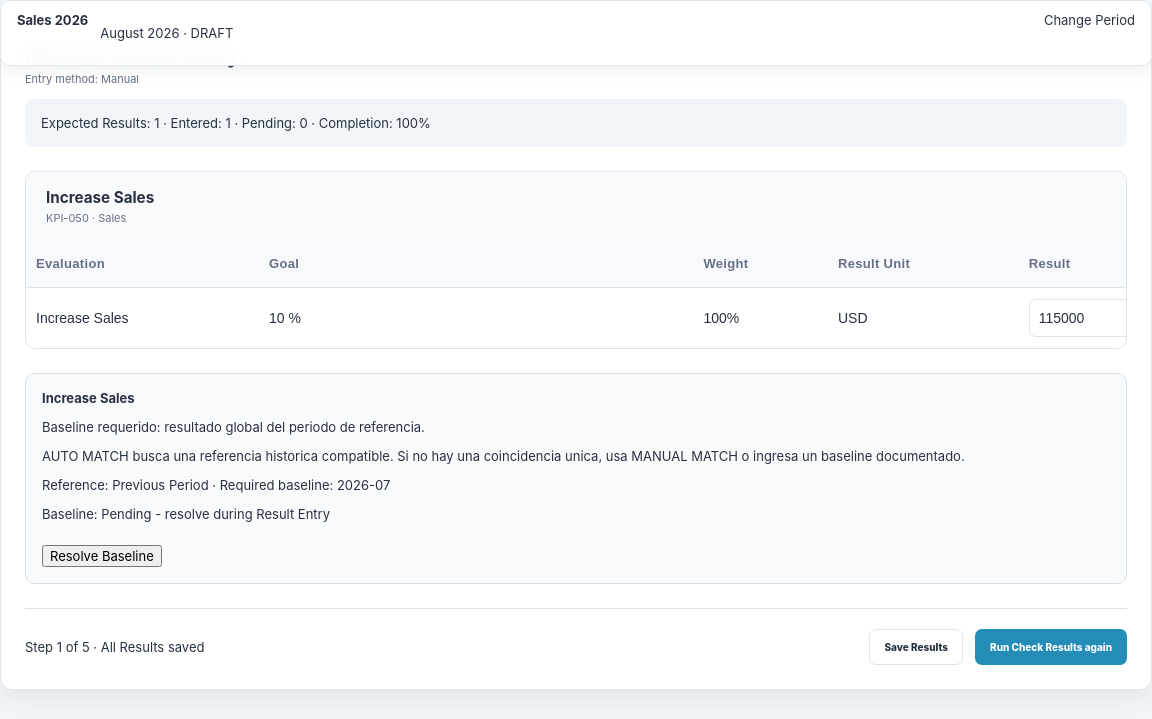
Test: Historical baseline in Monitoring wizard › requires manual provenance and sends only value/reason/version; period and unit are read-only
(page scrolled)
Click the button "Resolve Baseline".
click(102, 556)  # box [42, 544, 162, 566]
(page scrolled)
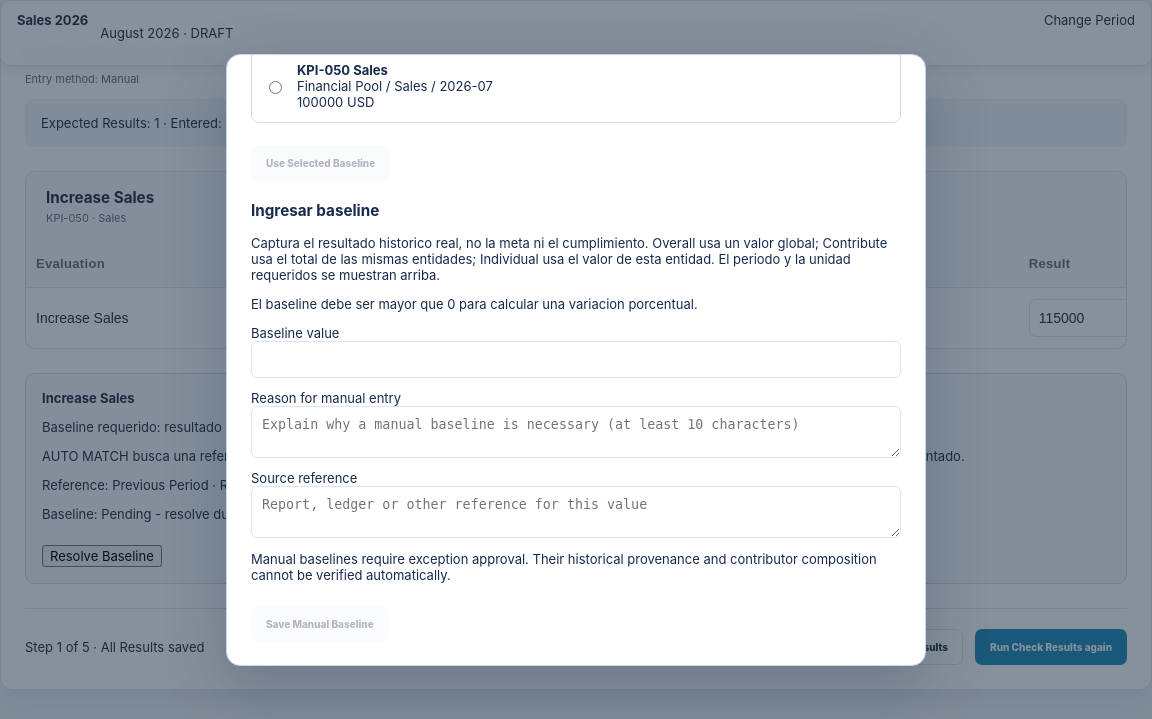
Type "100000" into the field labelled "Baseline value".
click(576, 360); type("100000")  # box [251, 341, 901, 378]
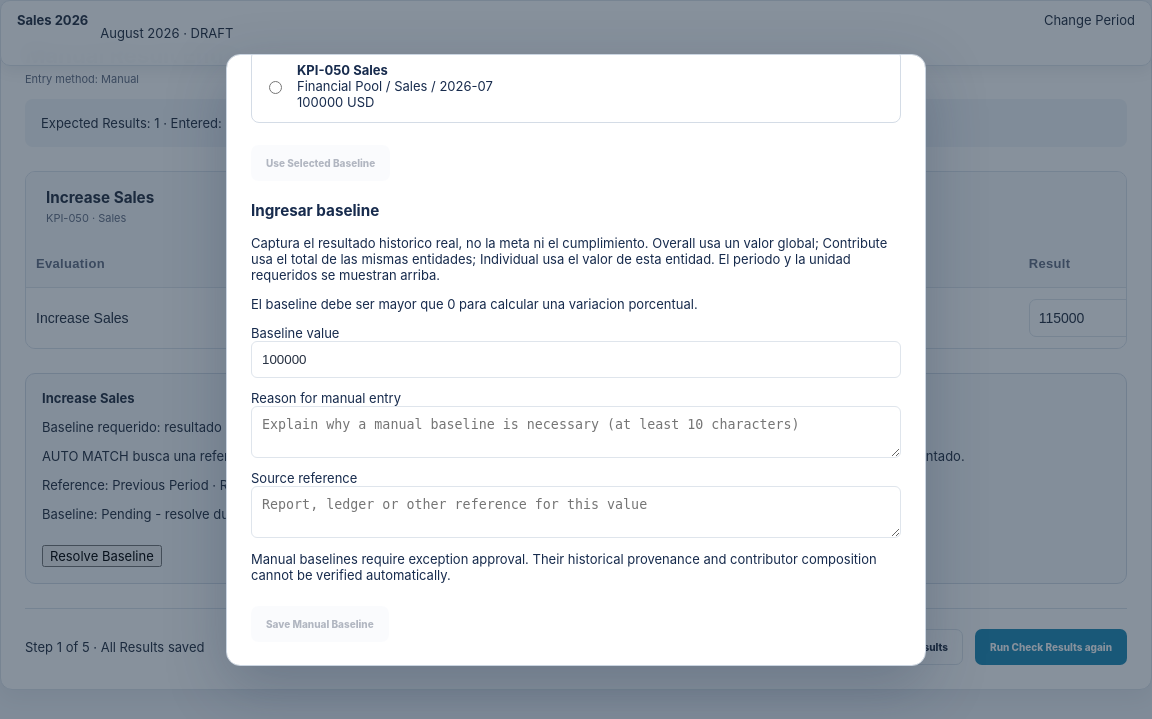
Result: the button "Save Manual Baseline" is disabled at [251, 606, 389, 642]
Replace the text in the text box labelled "Reason for manual entry" with "Historical ERP result before EXA" at (576, 432), box [251, 406, 901, 458]
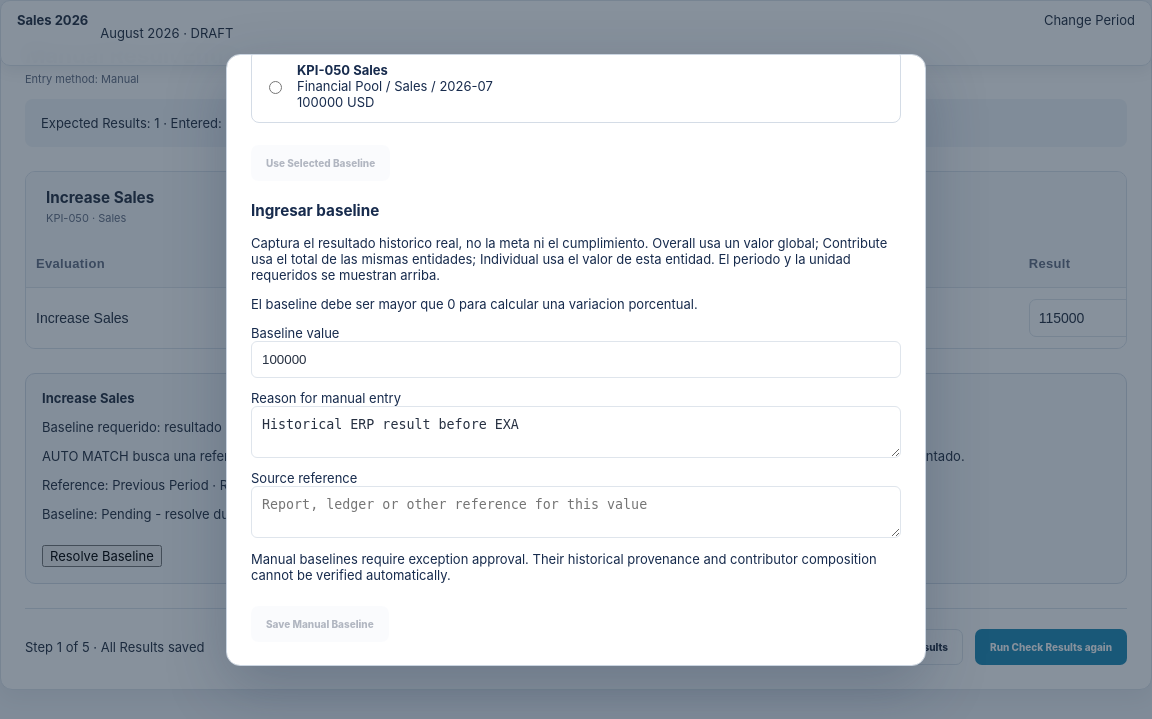
Result: the button "Save Manual Baseline" is disabled at [251, 606, 389, 642]
Type "ERP July 2026 ledger" into the text box labelled "Source reference".
click(576, 512); type("ERP July 2026 ledger")  # box [251, 486, 901, 538]
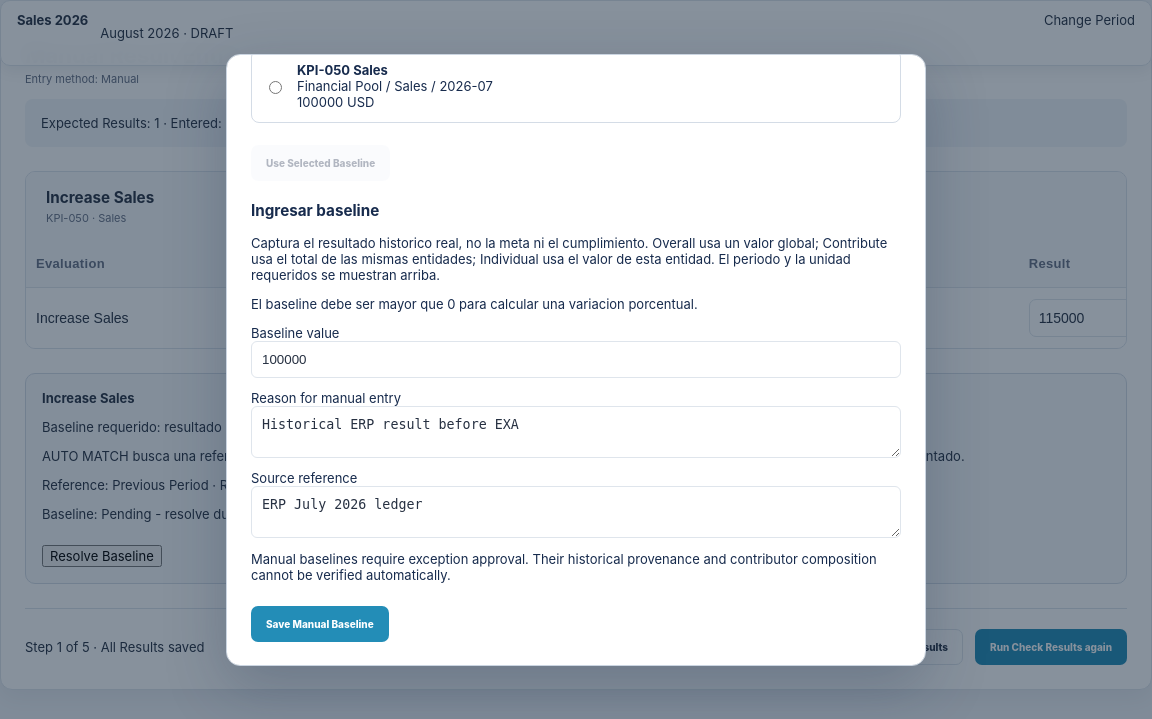
Click the button "Save Manual Baseline".
click(320, 624)  # box [251, 606, 389, 642]
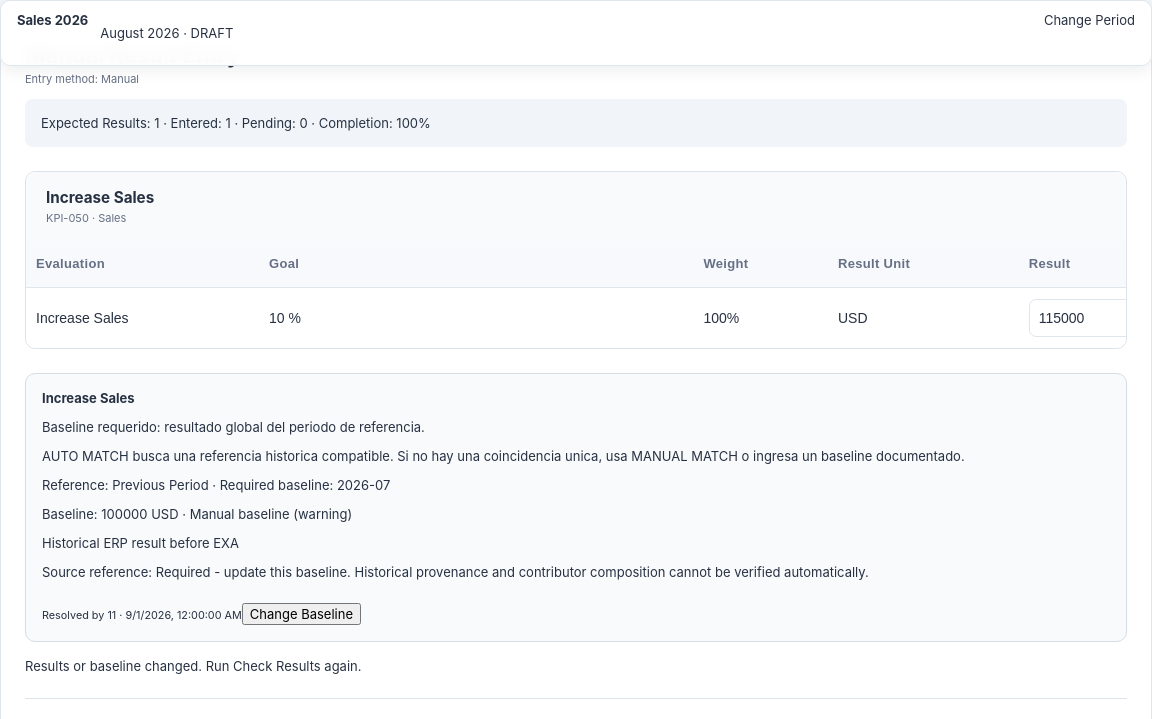
Result: the button "Change Baseline" is shown at [242, 602, 361, 624]
